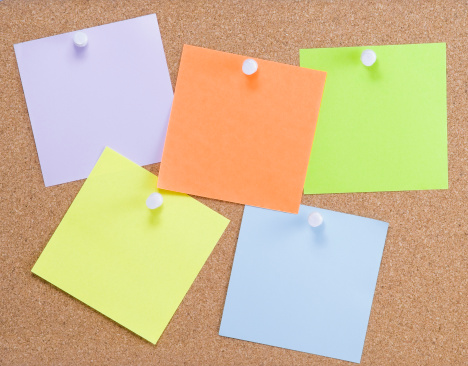blue_sticky_note: (218, 198, 389, 364), (14, 13, 174, 188)
green_sticky_note: (300, 43, 449, 193)
orange_sticky_note: (156, 42, 328, 216)
yellow_sticky_note: (31, 146, 230, 345)
